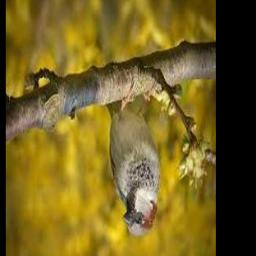Sparrow: (105, 92, 160, 237)
